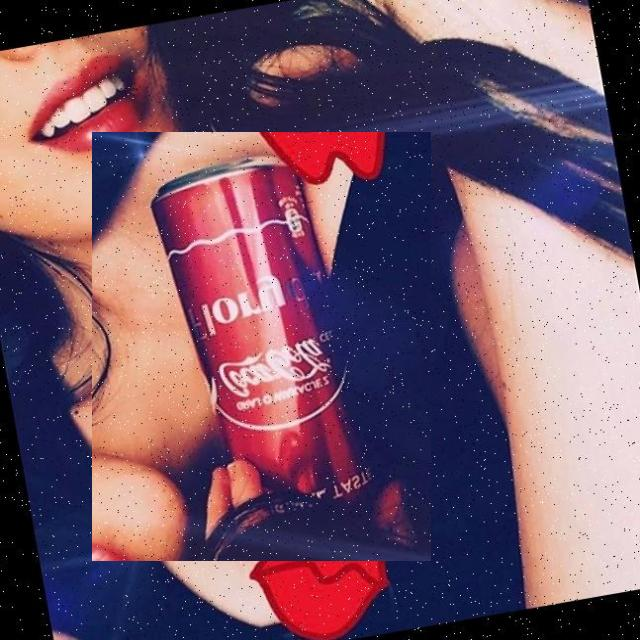coca-cola: (92, 132, 431, 561)
